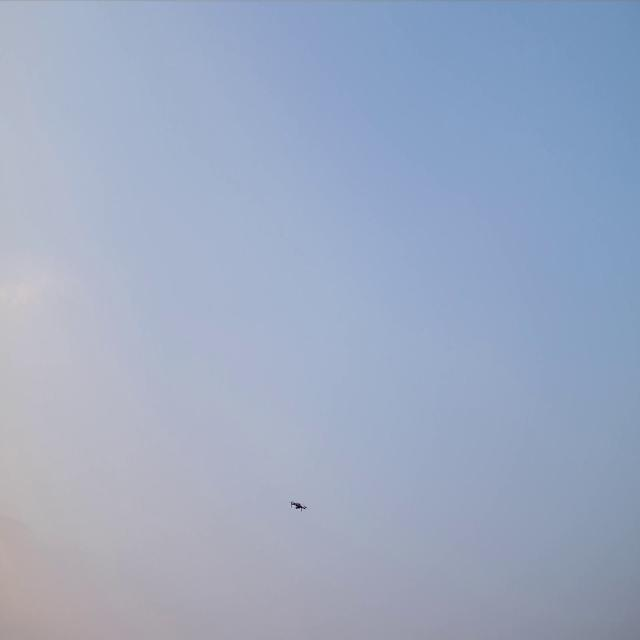UAV: (289, 500, 307, 513)
